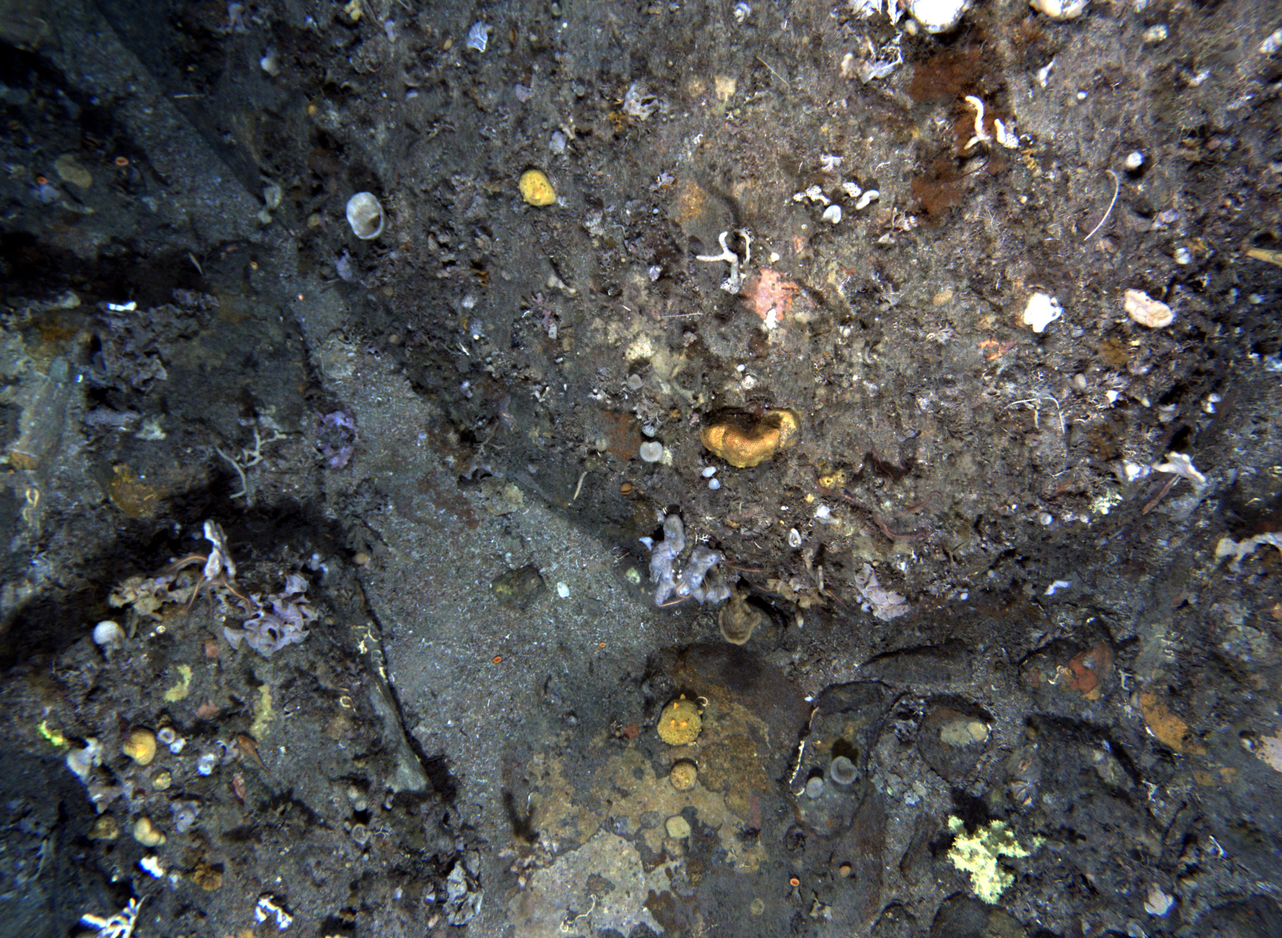Brachionichthyidae: (234, 733, 273, 774)
